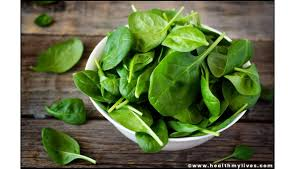spinach: (123, 32, 208, 113)
